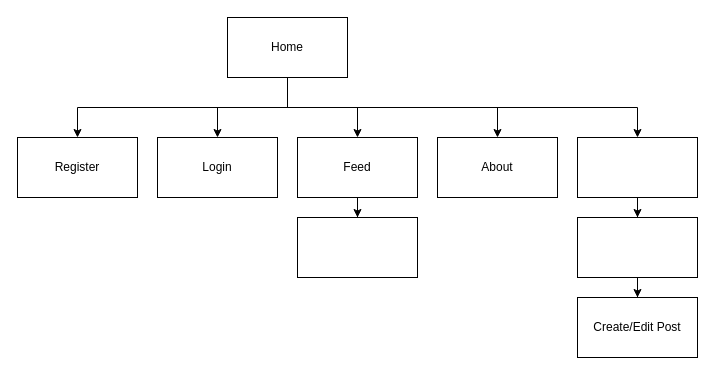
Image size: 715x375. Some labels were removed from this diagram. Each missing label, with the box of its shape:
Account: (576, 136, 698, 198)
Post: (296, 216, 418, 278)
Post Management: (576, 216, 698, 278)
